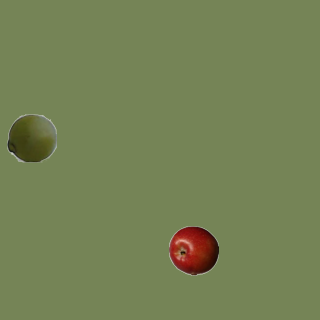Apple Braeburn: (168, 225, 218, 275)
Grape White 4: (6, 112, 56, 162)
